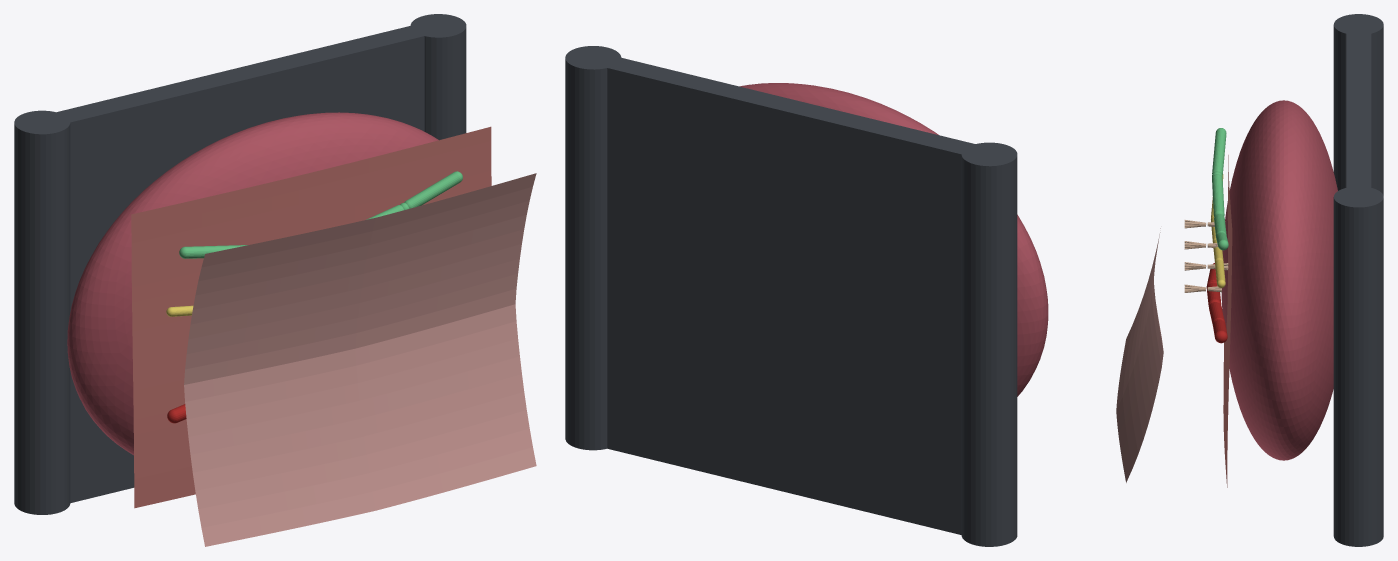
The model's file is dranmar_safeplane_tissue_scissors.glb.
3 renders of one model, left to right at view 1: azimuth 30°, elevation 25°; view 2: azimuth 150°, elevation 25°; view 3: azimuth 270°, elevation 25°, orthographic. The views are drawn at different scales.
Parts seen in each view (by area): view 1: SuperficialFlap, Fixture, TargetBed, ProtectedOrgan, DuctRight; view 2: Fixture, ProtectedOrgan; view 3: ProtectedOrgan, Fixture, SuperficialFlap, TargetBed, DuctLeft, VesselRight, DuctRight, NerveRight, VesselLeft.
Part boxes in pixels (x1,y1,x2,y2): SuperficialFlap: [184, 173, 536, 546]; Fixture: [14, 14, 466, 514]; TargetBed: [131, 126, 491, 508]; ProtectedOrgan: [67, 112, 438, 455]; DuctRight: [366, 171, 462, 219]; Fixture: [565, 46, 1017, 546]; ProtectedOrgan: [739, 83, 1048, 396]; ProtectedOrgan: [1221, 100, 1337, 460]; Fixture: [1333, 14, 1383, 546]; SuperficialFlap: [1116, 228, 1163, 482]; TargetBed: [1223, 155, 1232, 487]; DuctLeft: [1212, 128, 1226, 216]; VesselRight: [1209, 302, 1227, 343]; DuctRight: [1214, 214, 1228, 250]; NerveRight: [1213, 240, 1225, 287]; VesselLeft: [1206, 263, 1221, 306].
Bounding box in the file's own units: 0.22 × 0.18 × 0.1285.
